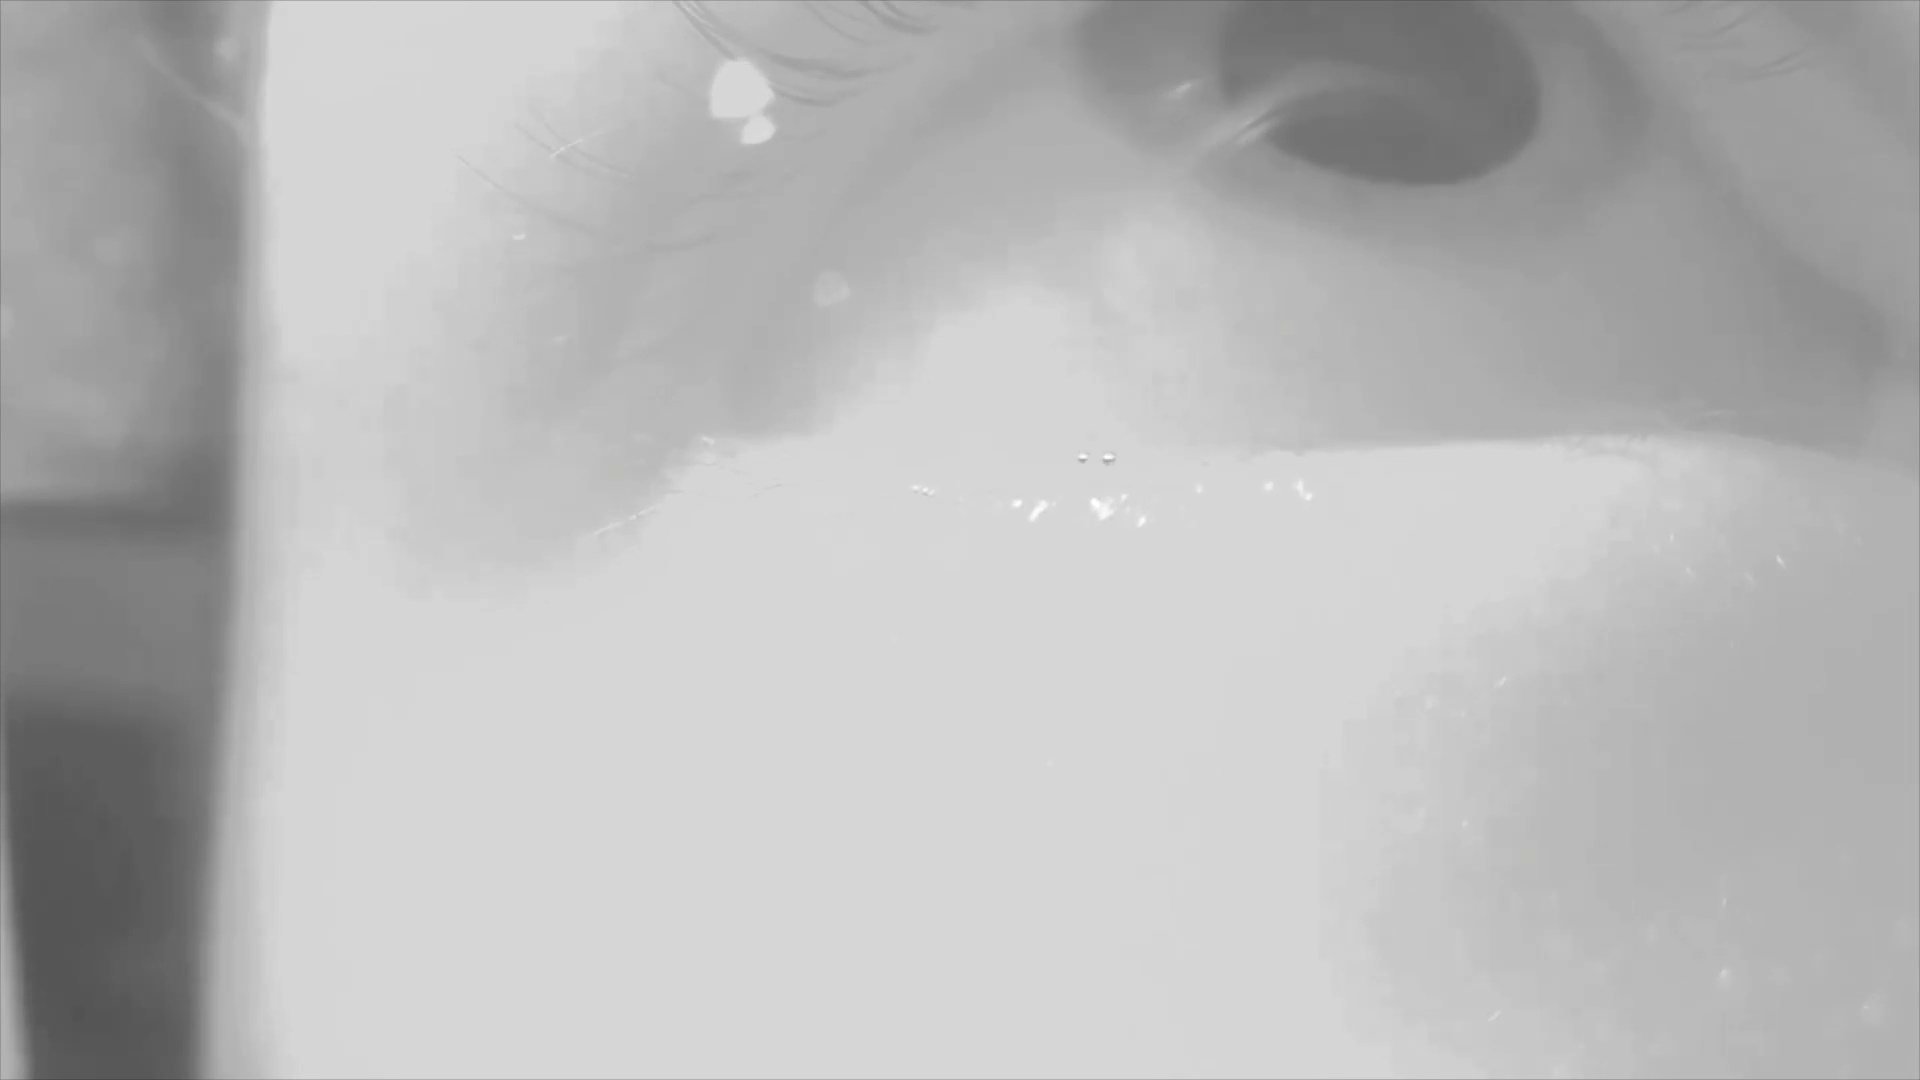pupil: (1219, 1, 1544, 184)
